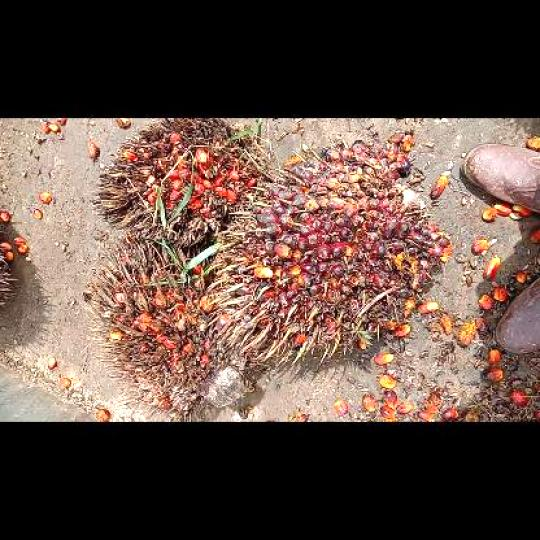masak: (208, 135, 451, 370)
terlalu masak: (81, 236, 259, 421), (90, 118, 268, 248)
